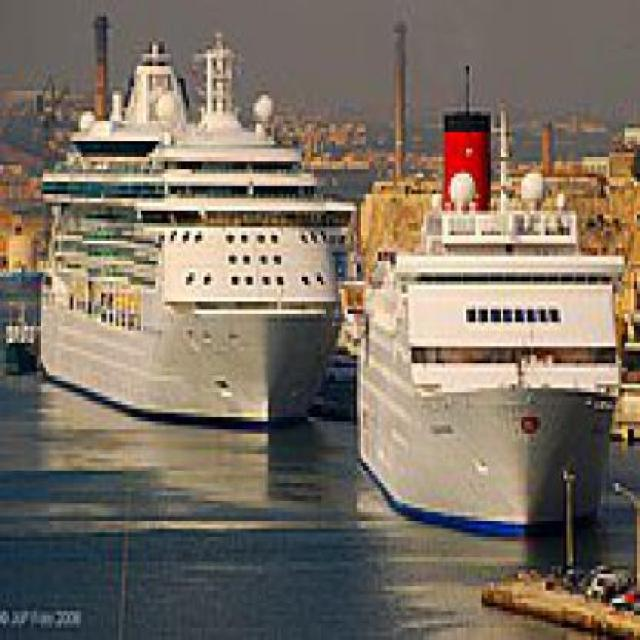cruise: (25, 1, 353, 439), (346, 170, 632, 559)
